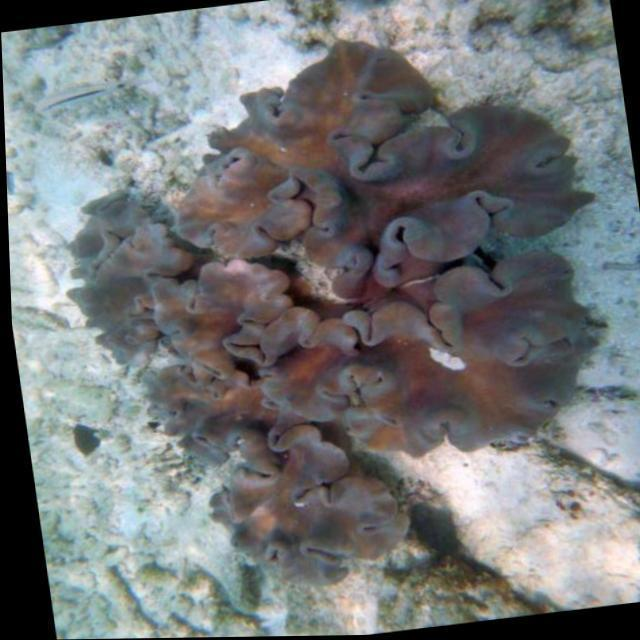Dead Coral: (34, 49, 640, 631)
